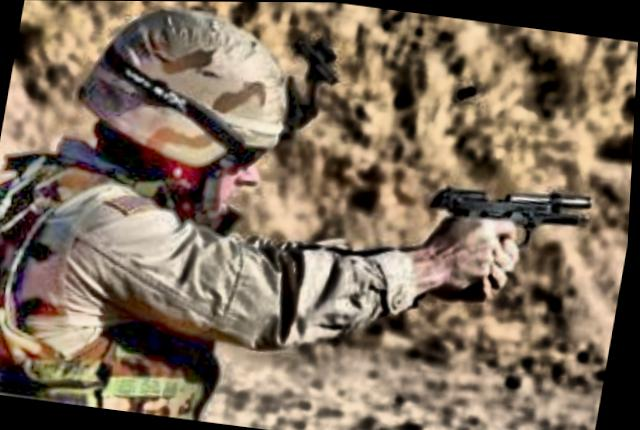pistol: (411, 169, 596, 258)
